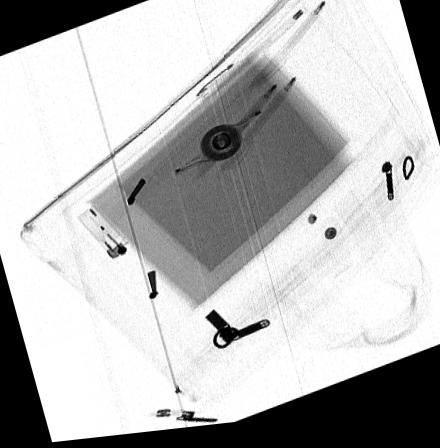Lighter: (76, 207, 129, 261)
